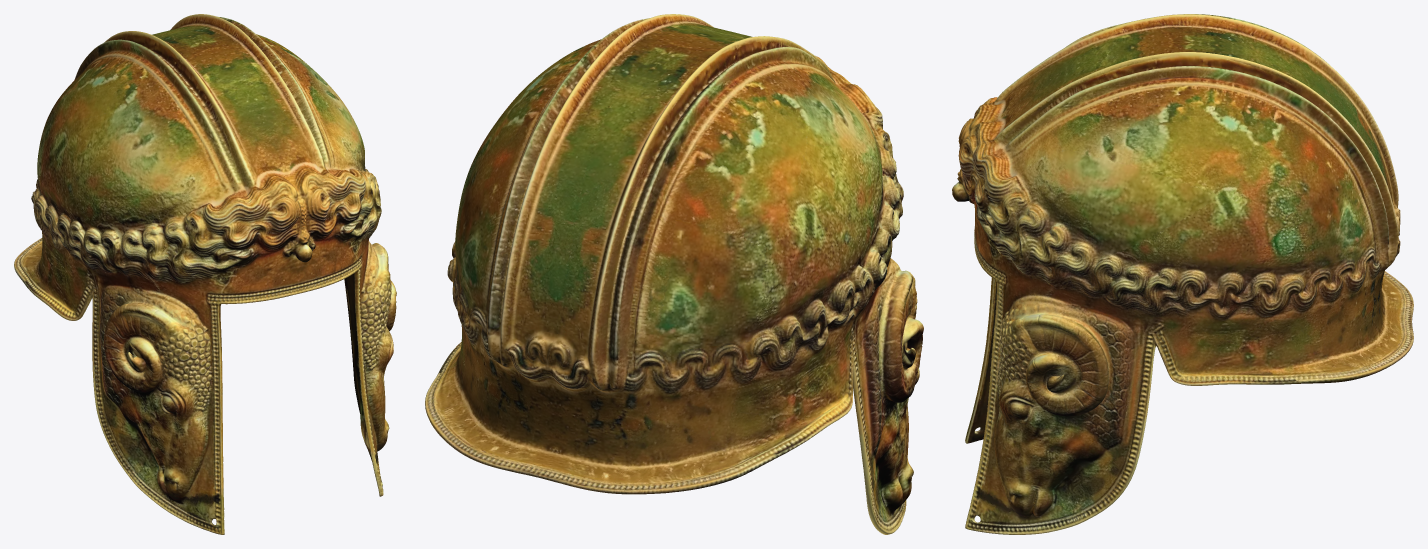
The model's file is 尼禄的头盔-黄雨馨.glb.
The picture shows the model from 3 angles, left to right: view 1: azimuth 30°, elevation 25°; view 2: azimuth 150°, elevation 25°; view 3: azimuth 270°, elevation 25°; orthographic projection. The views are drawn at different scales.
Bounding box in the file's own units: 1.36 × 1.9 × 1.75.
1 material, 1 textured.
